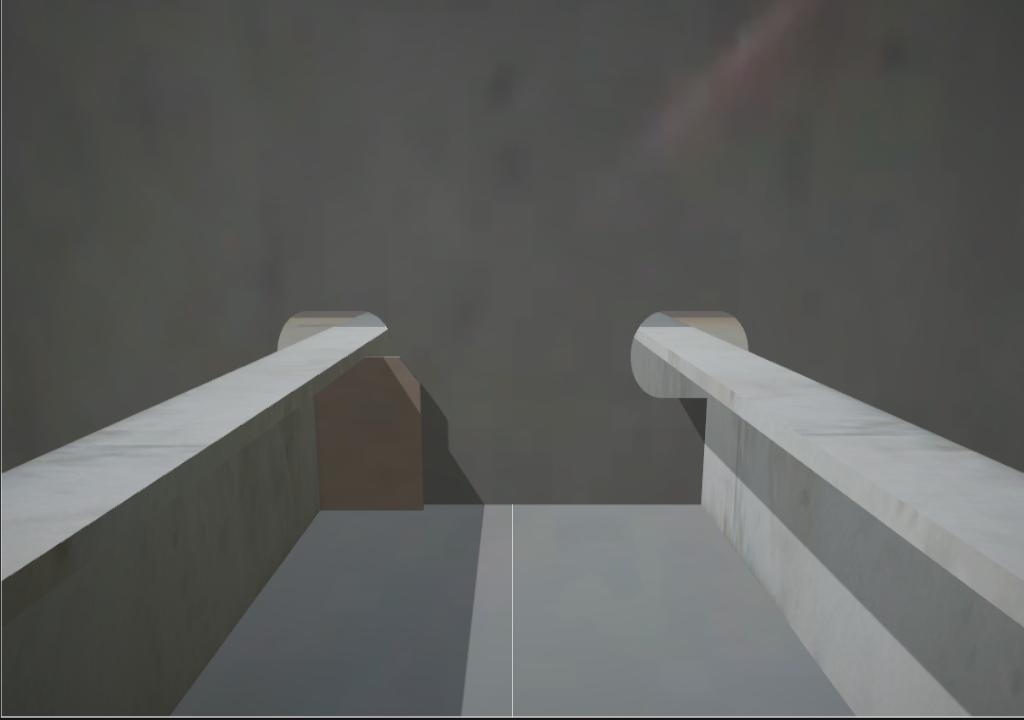fillet_yong_jeop_jang: (422, 492, 710, 521)
longi_yong_jeop_jang: (691, 391, 714, 511)
plate_CP03: (314, 353, 424, 510)
